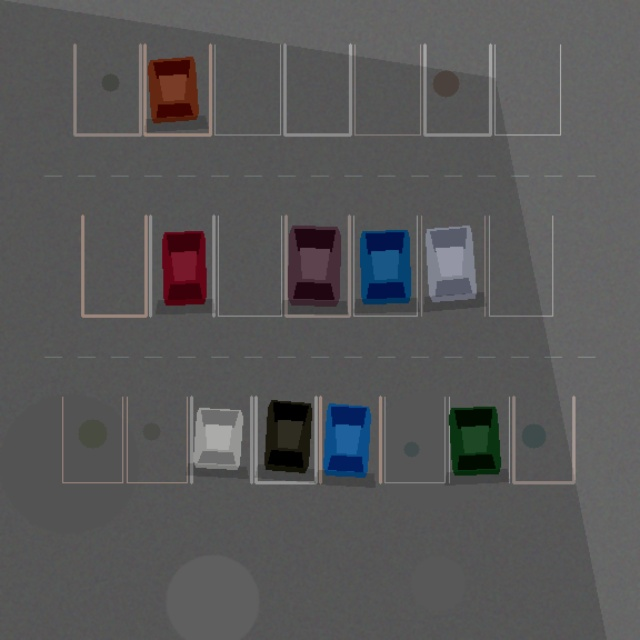space-empty: (82, 216, 146, 316), (218, 216, 281, 316), (489, 216, 552, 316), (74, 44, 140, 134), (214, 44, 280, 134), (284, 44, 350, 134), (354, 44, 420, 134), (424, 44, 490, 134), (494, 44, 560, 134), (62, 397, 122, 482), (127, 397, 187, 482), (384, 397, 444, 482), (513, 397, 573, 482)
space-occupied: (353, 216, 417, 316), (150, 216, 213, 316), (286, 216, 349, 316), (421, 216, 484, 316), (144, 44, 210, 134), (191, 397, 251, 482), (256, 397, 316, 482), (320, 397, 380, 482), (449, 397, 509, 482)
